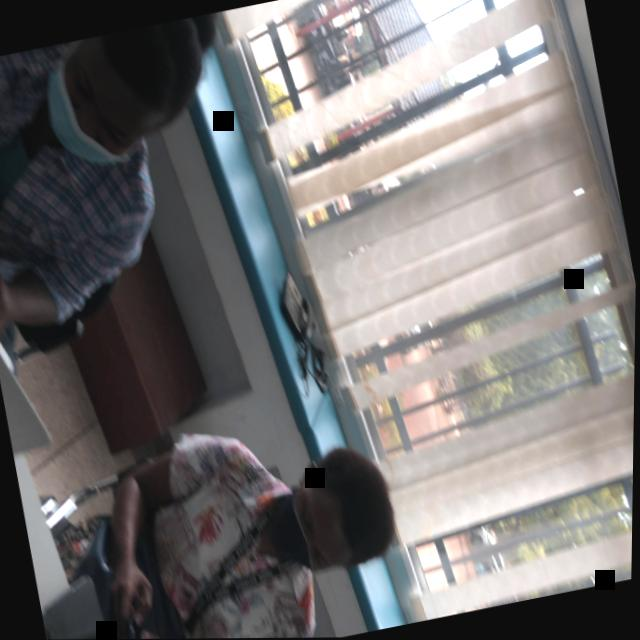Mask: (39, 49, 143, 175), (258, 478, 353, 582)
